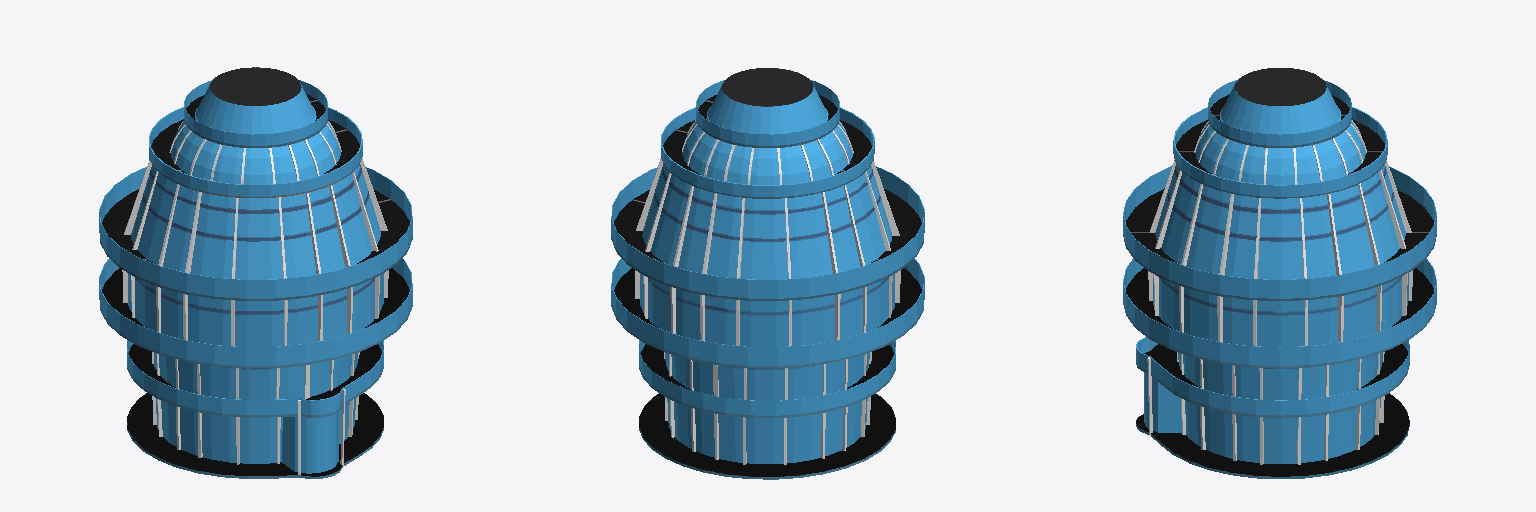
3 renders of one model, left to right at view 1: azimuth 30°, elevation 25°; view 2: azimuth 150°, elevation 25°; view 3: azimuth 270°, elevation 25°, orthographic.
Parts seen in each view (by area): view 1: Cylinder, Circle.010_Circle.002, Cube, Circle, Sphere, Cylinder.001, Circle.004_Circle.005, Circle.001, Circle.003_Circle.004; view 2: Cylinder, Circle.010_Circle.002, Cube, Circle, Sphere, Cylinder.001, Circle.001, Circle.003_Circle.004; view 3: Cylinder, Circle.010_Circle.002, Cube, Circle, Sphere, Cylinder.001, Circle.001, Circle.004_Circle.005, Circle.003_Circle.004.
Part boxes in pixels (bbox=[...]): Cylinder: bbox=[128, 67, 383, 463]; Circle.010_Circle.002: bbox=[99, 80, 412, 414]; Cube: bbox=[122, 121, 388, 474]; Circle: bbox=[127, 344, 383, 478]; Sphere: bbox=[171, 106, 340, 184]; Cylinder.001: bbox=[99, 119, 412, 300]; Circle.004_Circle.005: bbox=[282, 412, 338, 473]; Circle.001: bbox=[99, 268, 412, 368]; Circle.003_Circle.004: bbox=[184, 94, 327, 147]; Cylinder: bbox=[640, 68, 894, 463]; Circle.010_Circle.002: bbox=[611, 80, 924, 415]; Cube: bbox=[635, 120, 900, 464]; Circle: bbox=[639, 344, 895, 479]; Sphere: bbox=[682, 107, 852, 184]; Cylinder.001: bbox=[611, 120, 924, 300]; Circle.001: bbox=[611, 268, 924, 368]; Circle.003_Circle.004: bbox=[696, 94, 839, 147]; Cylinder: bbox=[1153, 68, 1408, 463]; Circle.010_Circle.002: bbox=[1123, 80, 1436, 415]; Cube: bbox=[1147, 120, 1412, 464]; Circle: bbox=[1136, 344, 1409, 478]; Sphere: bbox=[1195, 106, 1365, 184]; Cylinder.001: bbox=[1123, 119, 1436, 300]; Circle.001: bbox=[1123, 268, 1436, 368]; Circle.004_Circle.005: bbox=[1144, 372, 1181, 432]; Circle.003_Circle.004: bbox=[1208, 94, 1351, 147].
Bounding box in the file's own units: 10.62 × 12.61 × 10.62.
3 materials, 1 textured.